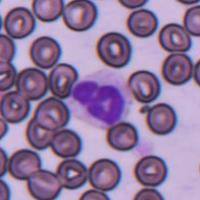N: (69, 71, 132, 129)
